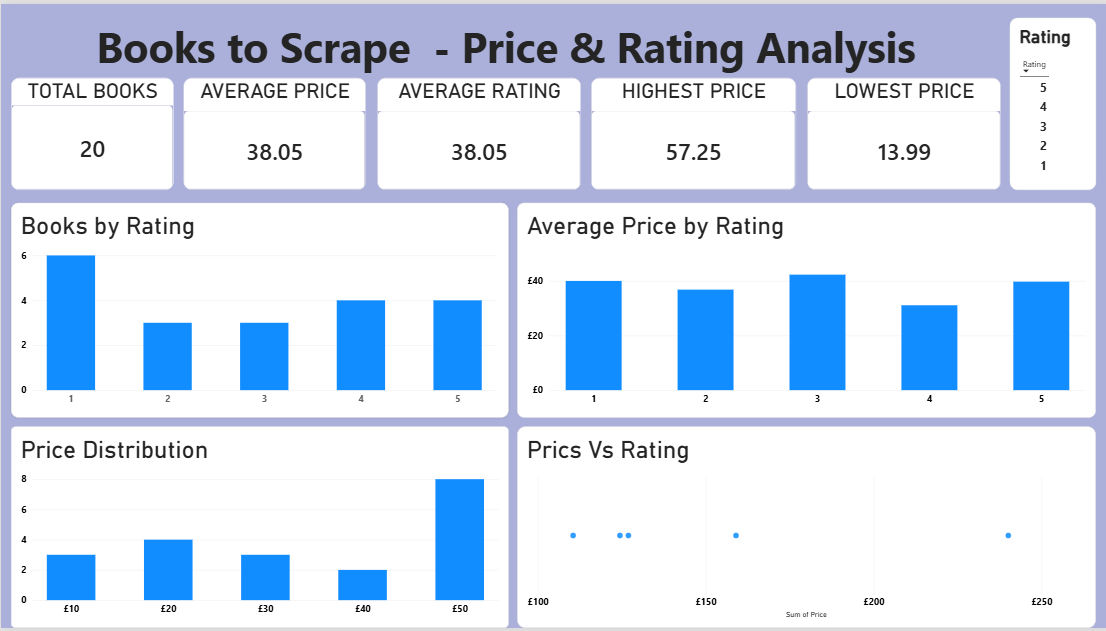

The dashboard page shown, as its layout file describes it:
{"tool":"powerbi","page":{"name":"Page 1","canvas":[1920,1080],"ordinal":0},"visuals":[{"type":"columnChart","title":"Books by Rating","fields":{"Category":["final_cleaned_books.Rating"],"Y":["CountNonNull(final_cleaned_books.Title)"]},"box":[17.3,344.1,861.3,372.2],"z":0},{"type":"columnChart","title":"Average Price by Rating","fields":{"Category":["final_cleaned_books.Rating"],"Y":["Avg(final_cleaned_books.Price)"]},"box":[893.8,344.1,1002,372.2],"z":1},{"type":"columnChart","title":"Price Distribution","fields":{"Category":["final_cleaned_books.Price (bins)"],"Y":["CountNonNull(final_cleaned_books.Title)"]},"box":[17.3,731.5,861.3,348.4],"z":2},{"type":"scatterChart","title":"Prics Vs Rating","fields":{"Category":["final_cleaned_books.Rating"],"X":["Sum(final_cleaned_books.Price)"]},"box":[893.8,731.5,1002,348.4],"z":3},{"type":"tableEx","title":"Rating","fields":{"Values":["final_cleaned_books.Rating"]},"box":[1746.5,23.8,149.3,298.7],"z":4},{"type":"textbox","box":[17.3,23.8,1714,103.9],"z":5},{"type":"cardVisual","title":"TOTAL  BOOKS","fields":{"Data":["final_cleaned_books.Total Books"]},"box":[17.3,127.7,281.3,194.8],"z":6},{"type":"cardVisual","title":"AVERAGE PRICE","fields":{"Data":["final_cleaned_books.Average Price"]},"box":[316,127.7,316,194.8],"z":7},{"type":"cardVisual","title":"AVERAGE RATING","fields":{"Data":["final_cleaned_books.Average Price"]},"box":[651.4,127.7,352.8,194.8],"z":8},{"type":"cardVisual","title":"HIGHEST PRICE","fields":{"Data":["final_cleaned_books.Highest Price"]},"box":[1021.5,127.7,354.9,194.8],"z":9},{"type":"cardVisual","title":"LOWEST PRICE","fields":{"Data":["final_cleaned_books.Lowest Price"]},"box":[1395.9,127.7,335.4,194.8],"z":10}]}

Visuals, with their boxes in screenshot pixels (x1, y1, x2, y2), scaled from the page's 1920x1080 canvas onto the 1106x631 screenshot:
"Books by Rating" columnChart: detection(10, 201, 506, 419)
"Average Price by Rating" columnChart: detection(515, 201, 1092, 419)
"Price Distribution" columnChart: detection(10, 427, 506, 630)
"Prics Vs Rating" scatterChart: detection(515, 427, 1092, 630)
"Rating" tableEx: detection(1006, 14, 1092, 188)
textbox: detection(10, 14, 997, 75)
"TOTAL  BOOKS" cardVisual: detection(10, 75, 172, 188)
"AVERAGE PRICE" cardVisual: detection(182, 75, 364, 188)
"AVERAGE RATING" cardVisual: detection(375, 75, 578, 188)
"HIGHEST PRICE" cardVisual: detection(588, 75, 793, 188)
"LOWEST PRICE" cardVisual: detection(804, 75, 997, 188)
